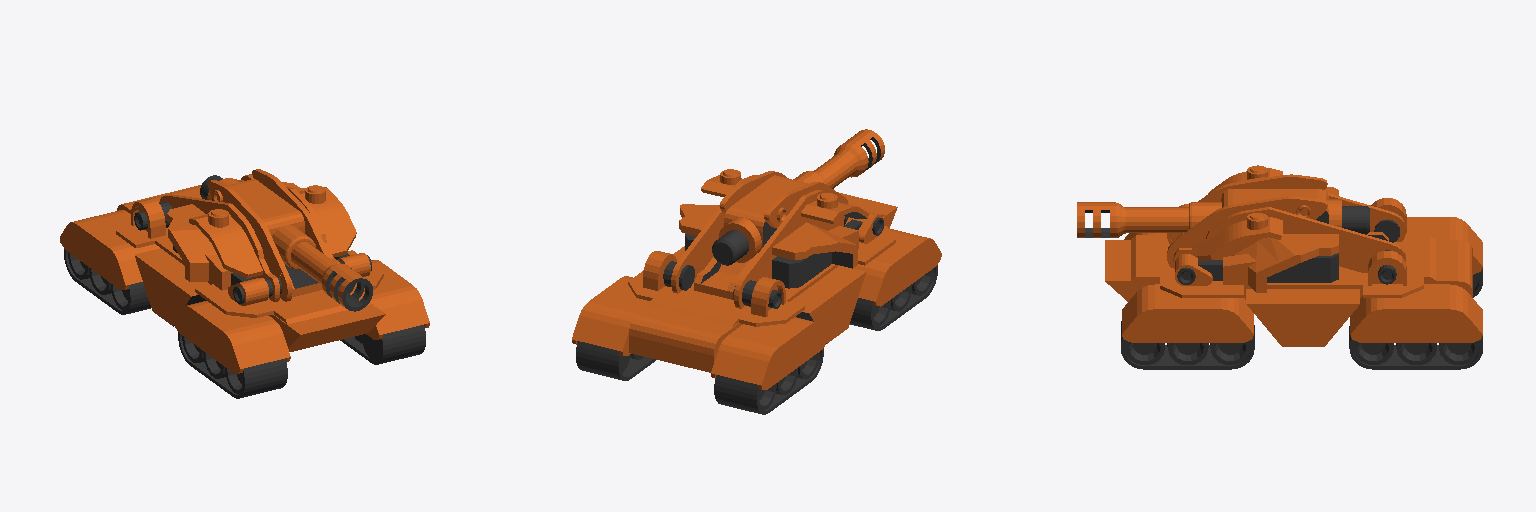
The model's file is tank.obj.
The picture shows the model from 3 angles: view 1: azimuth 30°, elevation 25°; view 2: azimuth 150°, elevation 25°; view 3: azimuth 270°, elevation 25°; orthographic projection.
Parts seen in each view (by area): view 1: head, body; view 2: head, body; view 3: head, body.
Part boxes in pixels (x1,y1,x2,y2): head: (116, 169, 383, 323); body: (60, 185, 429, 398); head: (628, 129, 895, 326); body: (572, 192, 941, 414); head: (1077, 165, 1435, 297); body: (1105, 217, 1482, 369).
Bounding box in the file's own units: 1.02 × 0.7099 × 1.89.